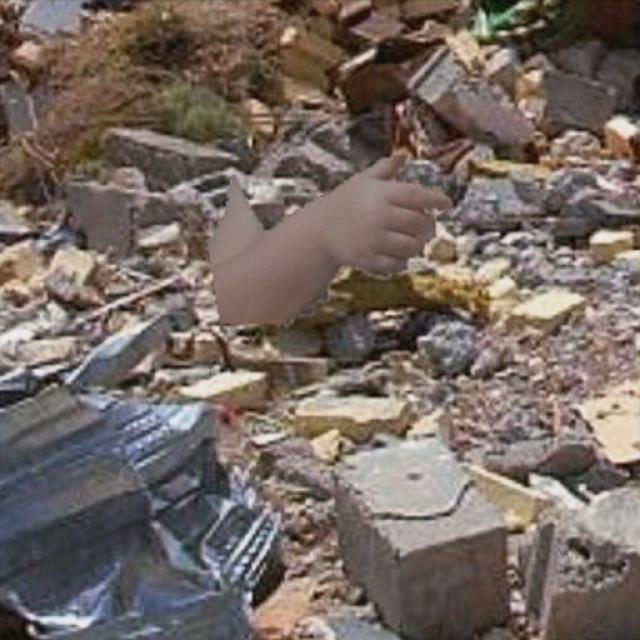Person in Rubble: (207, 155, 453, 323)
